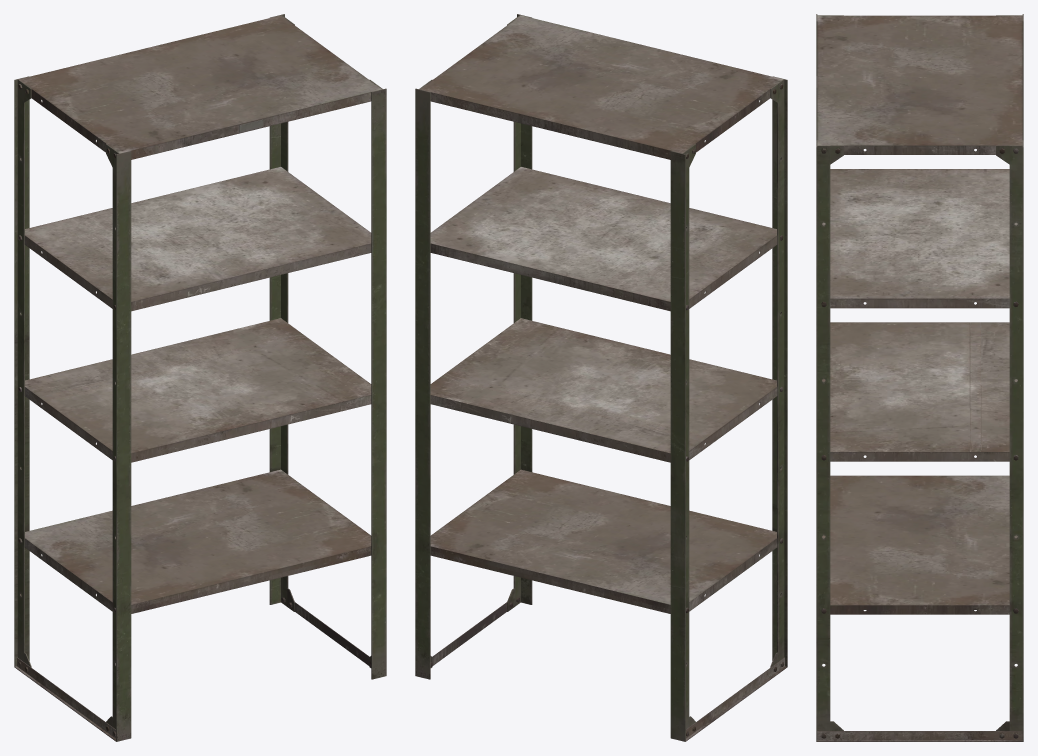
The model's file is worn_metal_rack.glb.
3 views of the same model, side by side, from view 1: azimuth 30°, elevation 25°; view 2: azimuth 150°, elevation 25°; view 3: azimuth 270°, elevation 25° (orthographic).
Visible parts, largest first — view 1: worn_metal_rack; view 2: worn_metal_rack; view 3: worn_metal_rack.
Part boxes in pixels (bbox=[...]): worn_metal_rack: bbox=[14, 14, 386, 741]; worn_metal_rack: bbox=[415, 14, 787, 741]; worn_metal_rack: bbox=[816, 14, 1023, 741].
Size of the model in its own units: 0.9154 by 1.9 by 0.6.
1 material, 1 textured.
